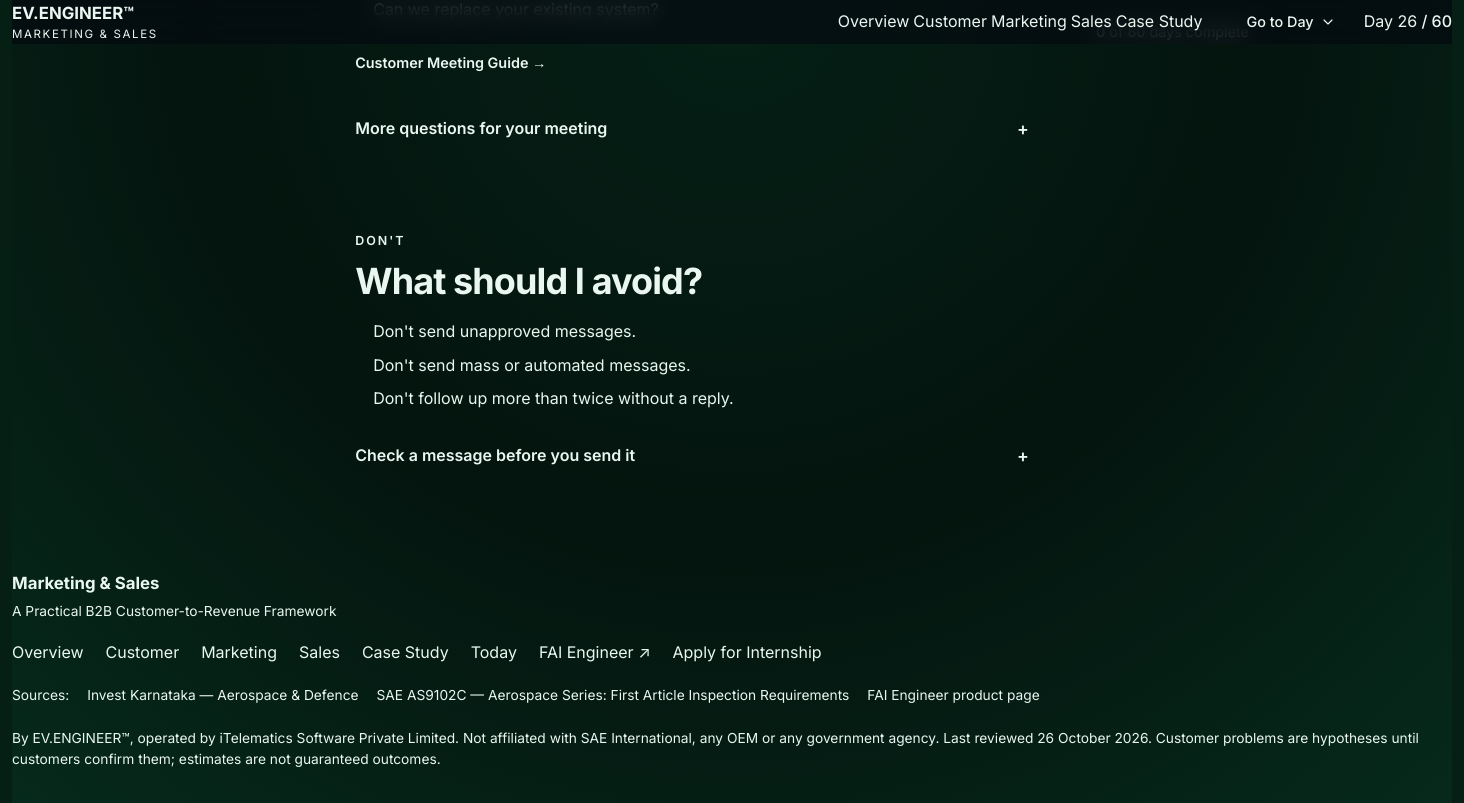
Test: Today: what do I do today? › brings the claim checker into Don't only once outreach begins, on Day 26
(page scrolled)
Click the heading "Check a message before you send it".
click(495, 455)  # box [355,445,635,465]
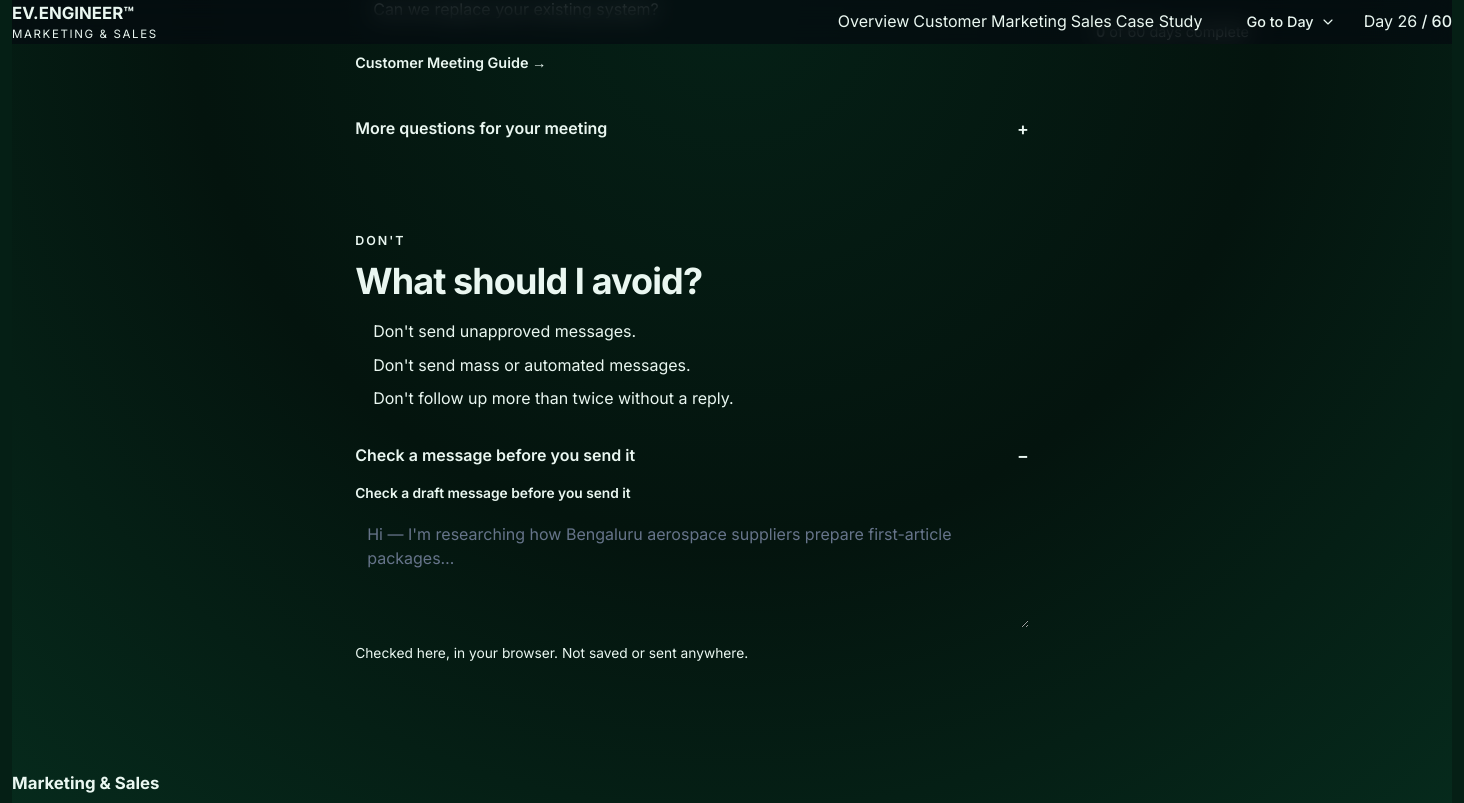
Type "Our software guarantees AS9102 compliance." into the text box labelled "Check a draft message before you send it".
click(692, 570); type("Our software guarantees AS9102 compliance.")  # box [355,512,1029,628]
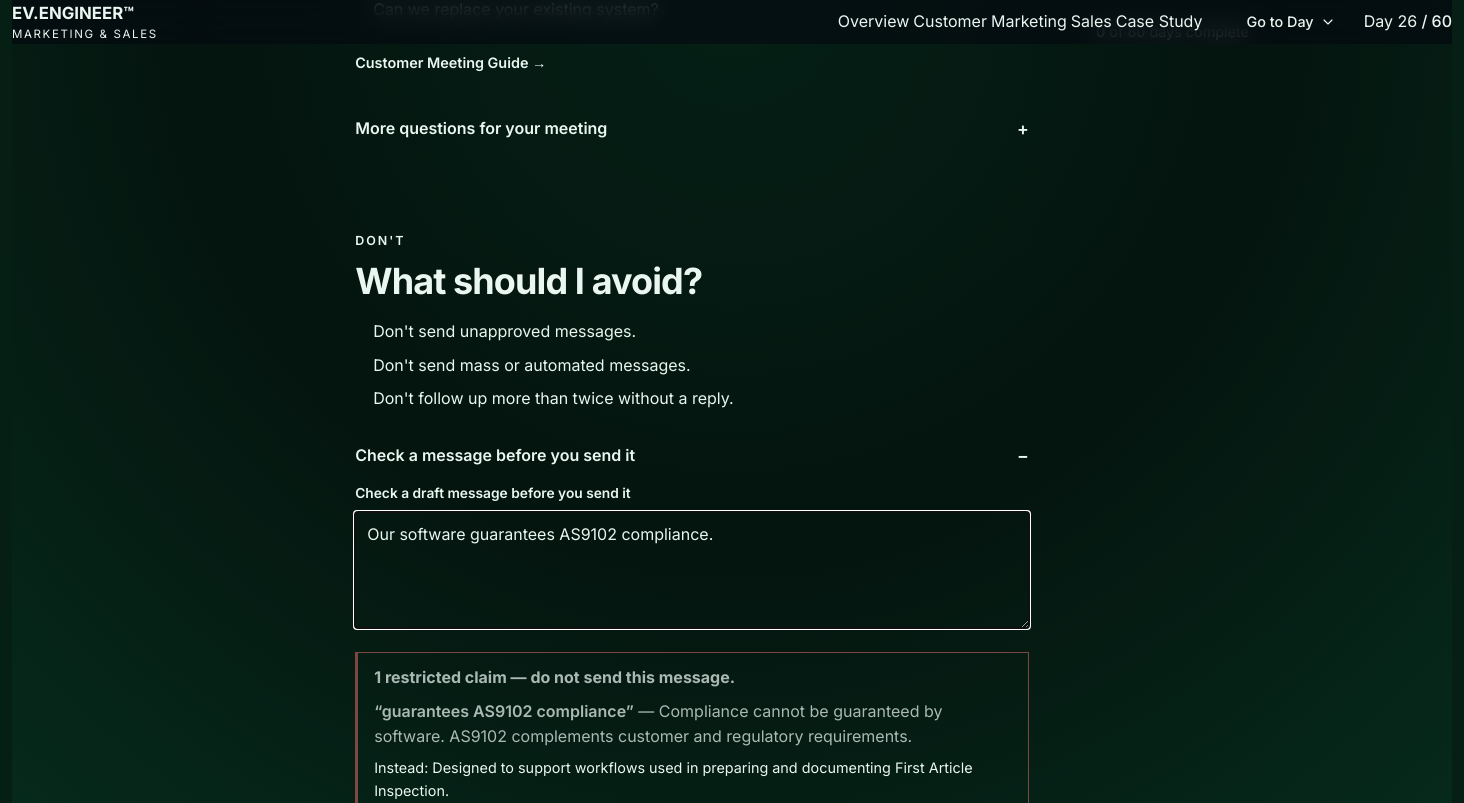
Now the text "1 restricted claim — do not send this message." is shown, box [374,667,735,687]
